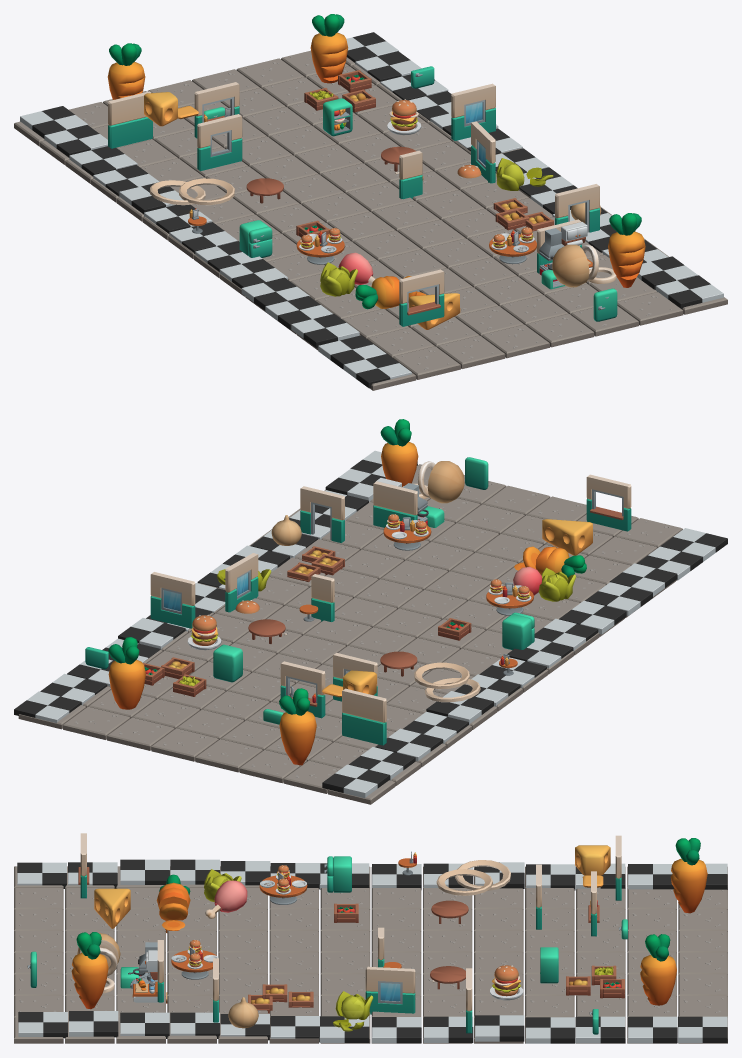
Rendered from gameboard.glb.
The picture shows the model from 3 angles, top to bottom: view 1: azimuth 30°, elevation 25°; view 2: azimuth 150°, elevation 25°; view 3: azimuth 270°, elevation 25°; orthographic projection.
Visible parts, largest first — view 1: floor_dirt, food_ingredient_carrot, food_ingredient_carrot.001, wall_window_closed.001, wall_window_open, wall, wall_orderwindow, food_ingredient_onion_chopped, food_ingredient_carrot.002, wall_decorated, wall_doorway, floor_kitchen.006 (+37 smaller); view 2: floor_dirt, wall_window_closed.001, wall, food_ingredient_carrot.002, food_ingredient_carrot.001, wall_decorated, food_ingredient_carrot, wall_orderwindow, wall_doorway, food_ingredient_onion_chopped, wall_window_closed, food_ingredient_cheese (+35 smaller); view 3: floor_dirt, wall_window_closed, food_ingredient_carrot, food_ingredient_carrot.002, food_ingredient_carrot.001, wall_decorated, food_ingredient_onion_rings, food_ingredient_carrot_chopped, floor_kitchen.026, floor_kitchen.024, floor_kitchen.016, floor_kitchen.023 (+50 smaller).
Part boxes in pixels (x1,y1,x2,y2): floor_dirt: (14, 50, 727, 390); food_ingredient_carrot: (608, 213, 645, 287); food_ingredient_carrot.001: (310, 14, 348, 83); wall_window_closed.001: (451, 83, 495, 140); wall_window_open: (197, 114, 242, 171); wall: (108, 91, 152, 148); wall_orderwindow: (399, 269, 444, 326); food_ingredient_onion_chopped: (552, 244, 616, 287); food_ingredient_carrot.002: (107, 43, 145, 99); wall_decorated: (537, 219, 592, 281); wall_doorway: (555, 184, 599, 232); floor_kitchen.006: (291, 313, 359, 347); floor_dirt: (18, 464, 682, 804); wall_window_closed.001: (150, 572, 195, 628); wall: (342, 688, 386, 745); food_ingredient_carrot.002: (279, 688, 316, 765); food_ingredient_carrot.001: (108, 637, 145, 709); wall_decorated: (373, 478, 428, 527); food_ingredient_carrot: (380, 419, 418, 486); wall_orderwindow: (586, 474, 631, 531); wall_doorway: (300, 486, 344, 542); food_ingredient_onion_chopped: (402, 461, 464, 503); wall_window_closed: (225, 553, 258, 612); food_ingredient_cheese: (542, 519, 592, 555); floor_dirt: (14, 866, 727, 1043); wall_window_closed: (365, 966, 415, 1014); food_ingredient_carrot: (71, 932, 108, 1009); food_ingredient_carrot.002: (670, 838, 707, 913); food_ingredient_carrot.001: (640, 934, 676, 1005); wall_decorated: (128, 940, 163, 1002); food_ingredient_onion_rings: (436, 860, 510, 895); food_ingredient_carrot_chopped: (156, 874, 190, 932); floor_kitchen.026: (628, 1016, 677, 1043); floor_kitchen.024: (525, 1017, 575, 1043); floor_kitchen.016: (372, 1017, 421, 1043); floor_kitchen.023: (475, 1015, 524, 1041).
Bounding box in the file's own units: 33.68 × 8.48 × 57.56.
70 materials, 70 textured.
